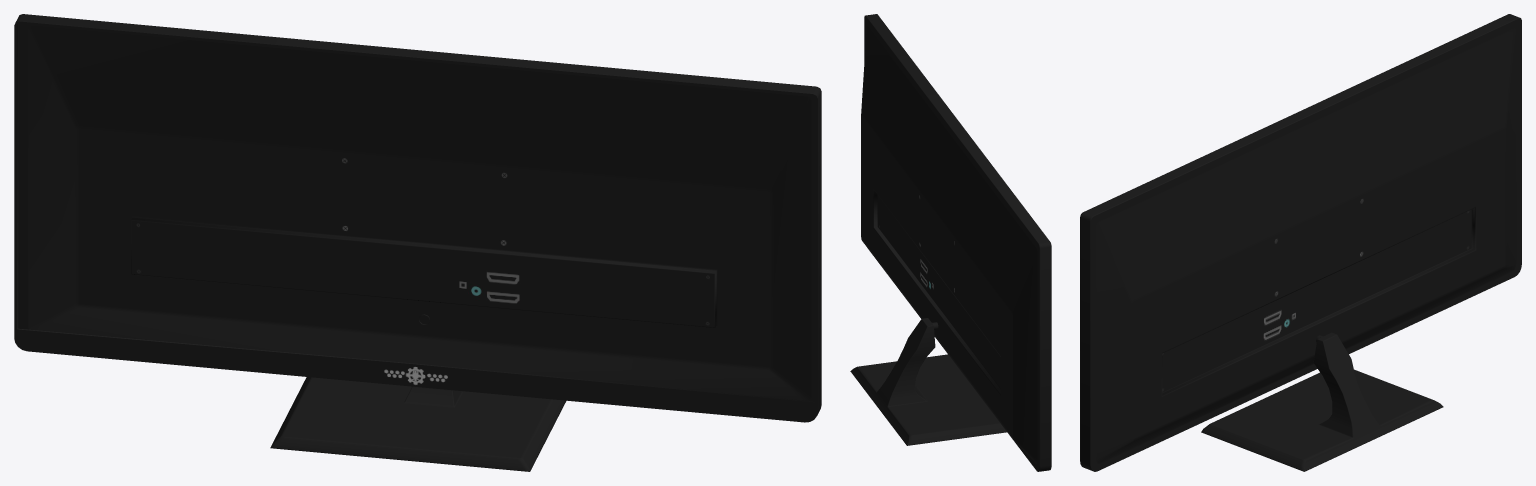
The model's file is Monitor.fbx.
3 views of the same model, side by side, from view 1: azimuth 30°, elevation 25°; view 2: azimuth 150°, elevation 25°; view 3: azimuth 270°, elevation 25° (orthographic). The views are drawn at different scales.
Visible parts, largest first — view 1: Monitor_Body, Monitor_Stand; view 2: Monitor_Body, Monitor_Stand; view 3: Monitor_Body, Monitor_Stand.
Boxes of the visible parts, x1,y1,x2,y2 form: Monitor_Body: [14, 14, 821, 422]; Monitor_Stand: [270, 314, 566, 471]; Monitor_Body: [861, 14, 1051, 471]; Monitor_Stand: [850, 318, 1006, 445]; Monitor_Body: [1080, 14, 1521, 471]; Monitor_Stand: [1201, 332, 1443, 471].
Size of the model in its own units: 54.43 by 37.26 by 49.58.
2 materials, 1 textured.
